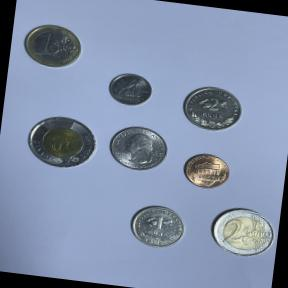coin: (22, 111, 103, 173), (206, 203, 280, 262), (178, 81, 249, 136), (104, 122, 176, 175), (18, 18, 86, 74), (178, 148, 236, 194), (104, 70, 158, 110)
